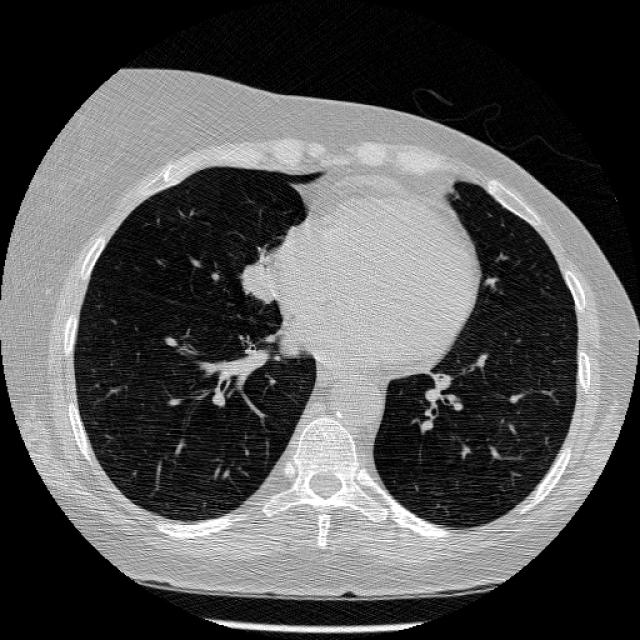nodule: (220, 244, 298, 321)
